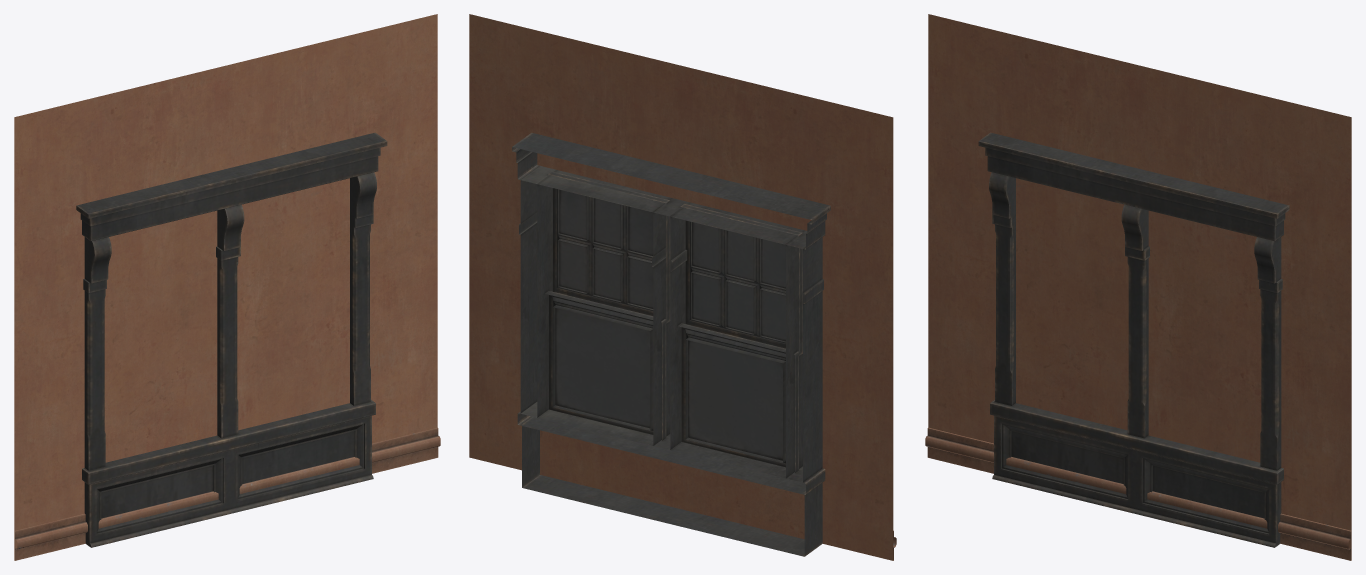
File: polyhaven-apartment.glb
3 views of the same model, side by side, from view 1: azimuth 30°, elevation 25°; view 2: azimuth 150°, elevation 25°; view 3: azimuth 330°, elevation 25° (orthographic).
Visible parts, largest first — view 1: wall_standard_standard_01, wall_window_centered_large_01, window_centered_large_01, cornice_standard_standard_01; view 2: window_centered_large_01, wall_window_centered_large_01, wall_standard_standard_01; view 3: wall_standard_standard_01, wall_window_centered_large_01, window_centered_large_01, cornice_standard_standard_01.
Part boxes in pixels (<box>): wall_standard_standard_01: <box>14,14,437,557</box>; wall_window_centered_large_01: <box>14,15,437,560</box>; window_centered_large_01: <box>76,132,387,547</box>; cornice_standard_standard_01: <box>14,427,440,560</box>; window_centered_large_01: <box>512,132,830,556</box>; wall_window_centered_large_01: <box>469,14,893,560</box>; wall_standard_standard_01: <box>469,14,893,560</box>; wall_standard_standard_01: <box>928,14,1351,560</box>; wall_window_centered_large_01: <box>928,14,1351,559</box>; window_centered_large_01: <box>978,132,1289,547</box>; cornice_standard_standard_01: <box>925,427,1351,560</box>.
Size of the model in its own units: 3 by 3 by 0.39.
4 materials, 4 textured.
